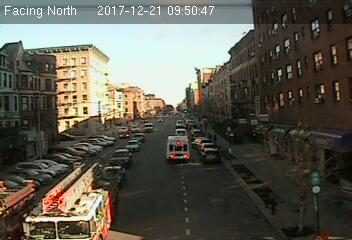car: (109, 149, 132, 168), (124, 139, 142, 153)
truck: (25, 160, 122, 240), (165, 135, 190, 162), (201, 146, 220, 162)
